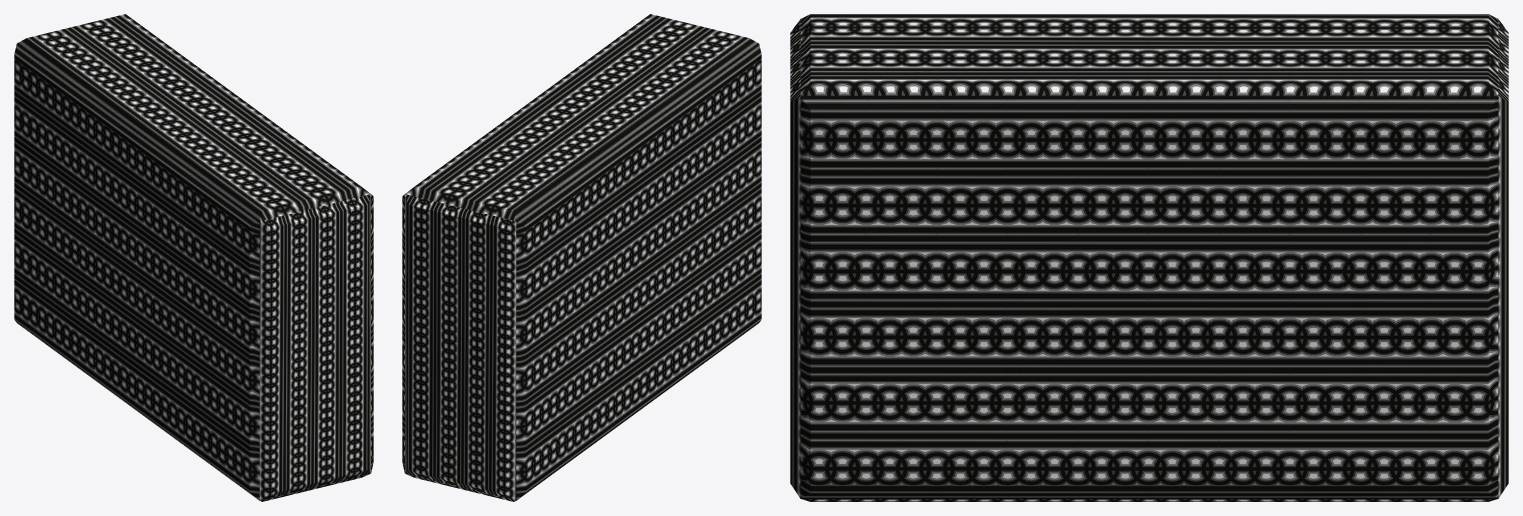
The model's file is Platform2Room1Tutorial1.FBX.
3 renders of one model, left to right at view 1: azimuth 30°, elevation 25°; view 2: azimuth 150°, elevation 25°; view 3: azimuth 270°, elevation 25°, orthographic. The views are drawn at different scales.
Parts seen in each view (by area): view 1: Platform2Room1Tutorial1; view 2: Platform2Room1Tutorial1; view 3: Platform2Room1Tutorial1.
Part boxes in pixels (x1,y1,x2,y2): Platform2Room1Tutorial1: (14,14,373,501); Platform2Room1Tutorial1: (402,14,761,501); Platform2Room1Tutorial1: (790,14,1508,501).
Size of the model in its own units: 78.74 by 177 by 276.
